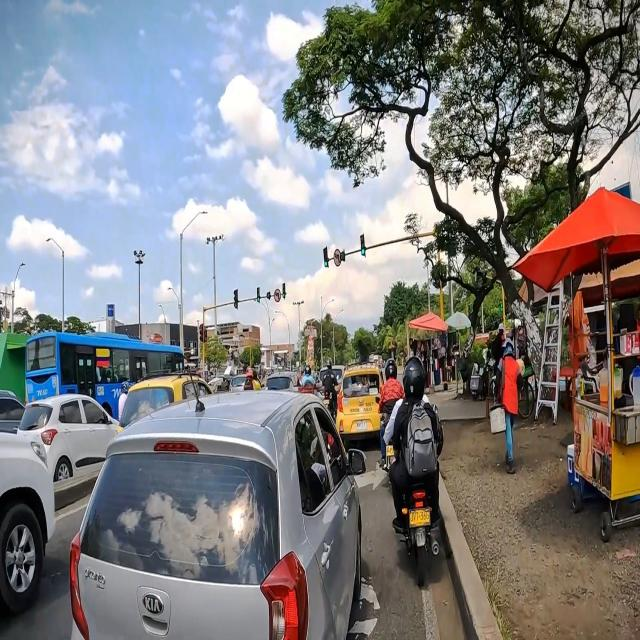license_plate: (408, 506, 430, 526)
